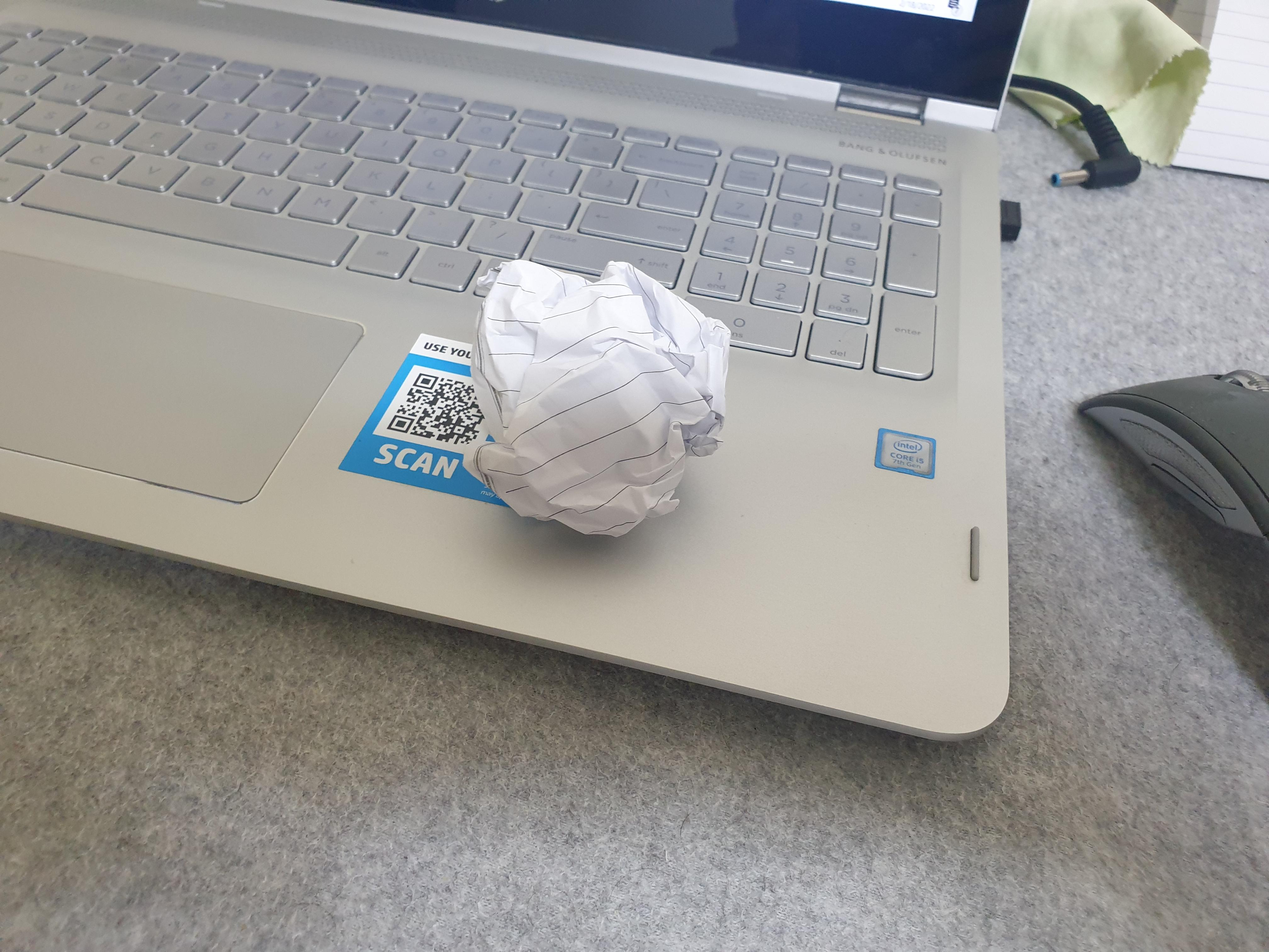paper: (429, 232, 748, 552)
